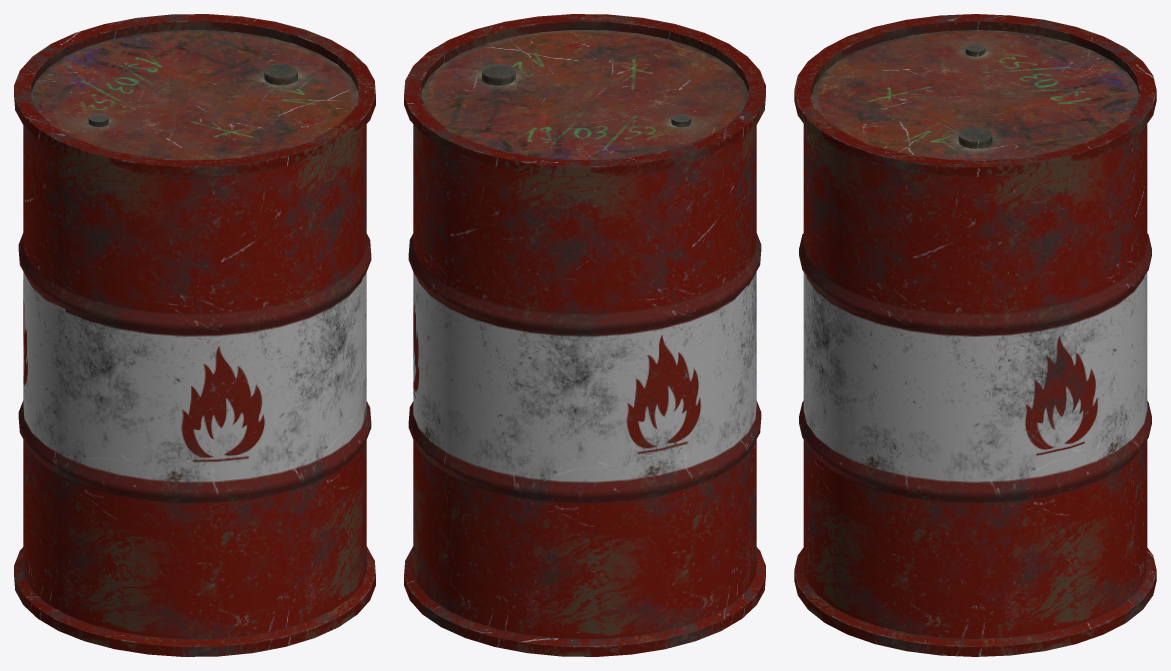
The model's file is CR_Oil_barrel4.fbx.
The picture shows the model from 3 angles, left to right: view 1: azimuth 30°, elevation 25°; view 2: azimuth 150°, elevation 25°; view 3: azimuth 270°, elevation 25°; orthographic projection.
Visible parts, largest first — view 1: Oil_barrel4; view 2: Oil_barrel4; view 3: Oil_barrel4.
Part boxes in pixels (<box>): Oil_barrel4: <box>14,14,375,656</box>; Oil_barrel4: <box>404,14,765,656</box>; Oil_barrel4: <box>794,14,1156,656</box>.
Bounding box in the file's own units: 62.87 × 93.71 × 62.87.
